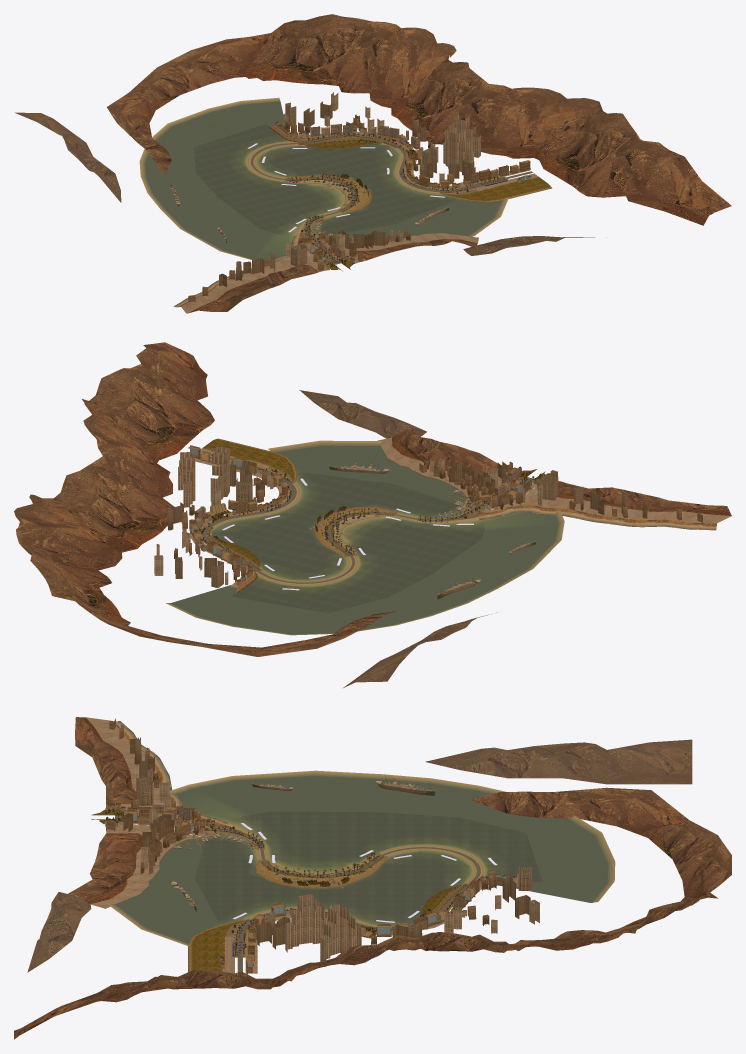
Rendered from stage-palm-br.glb.
The picture shows the model from 3 angles, top to bottom: view 1: azimuth 30°, elevation 25°; view 2: azimuth 150°, elevation 25°; view 3: azimuth 270°, elevation 25°; orthographic projection. The views are drawn at different scales.
Visible parts, largest first — view 1: part 1, part 5, part 2, part 0, env part 1, env part 2, env part 0, part 6; view 2: part 1, part 5, part 2, part 0, part 6, env part 1, env part 2, env part 0; view 3: part 5, part 1, part 2, part 0, env part 1, part 6, env part 0, env part 2.
Part boxes in pixels (left/top/right/bottom): part 1: left=15, top=14, right=731, bottom=313; part 5: left=139, top=97, right=508, bottom=260; part 2: left=188, top=92, right=531, bottom=302; part 0: left=246, top=135, right=506, bottom=264; env part 1: left=284, top=131, right=510, bottom=270; env part 2: left=294, top=124, right=420, bottom=259; env part 0: left=247, top=136, right=532, bottom=263; part 6: left=170, top=134, right=507, bottom=261; part 1: left=14, top=342, right=731, bottom=687; part 5: left=165, top=440, right=564, bottom=635; part 2: left=154, top=445, right=702, bottom=587; part 0: left=202, top=468, right=531, bottom=585; part 6: left=207, top=458, right=536, bottom=599; env part 1: left=190, top=456, right=545, bottom=575; env part 2: left=189, top=467, right=523, bottom=572; env part 0: left=200, top=454, right=528, bottom=585; part 5: left=108, top=770, right=615, bottom=946; part 1: left=14, top=717, right=731, bottom=1039; part 2: left=105, top=718, right=539, bottom=974; part 0: left=115, top=816, right=484, bottom=957; env part 1: left=91, top=810, right=488, bottom=957; part 6: left=171, top=778, right=470, bottom=956; env part 0: left=115, top=816, right=484, bottom=972; env part 2: left=124, top=806, right=484, bottom=929.
Size of the model in its own units: 3879 by 370 by 3620.
Materials: 251 (247 with a texture image).
